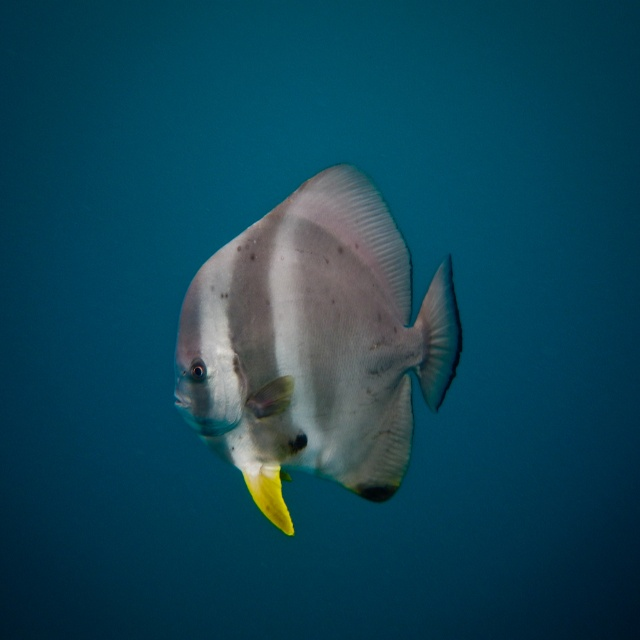Fish: (155, 157, 469, 527)
